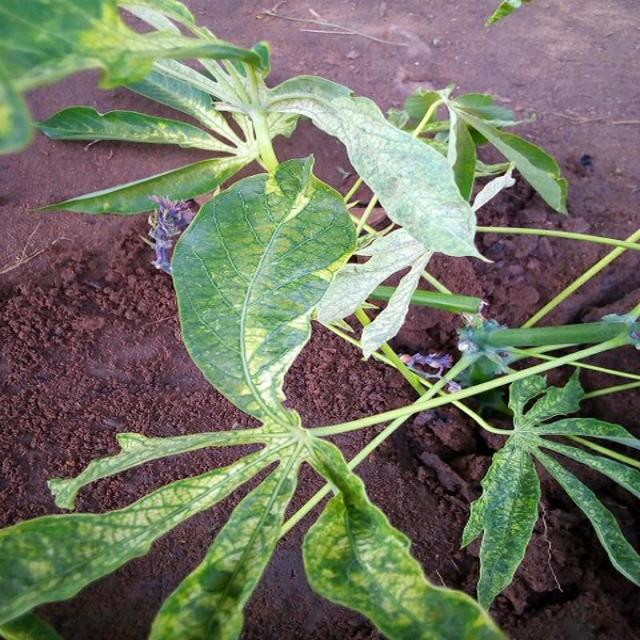cassava leaf: (168, 152, 358, 426)
